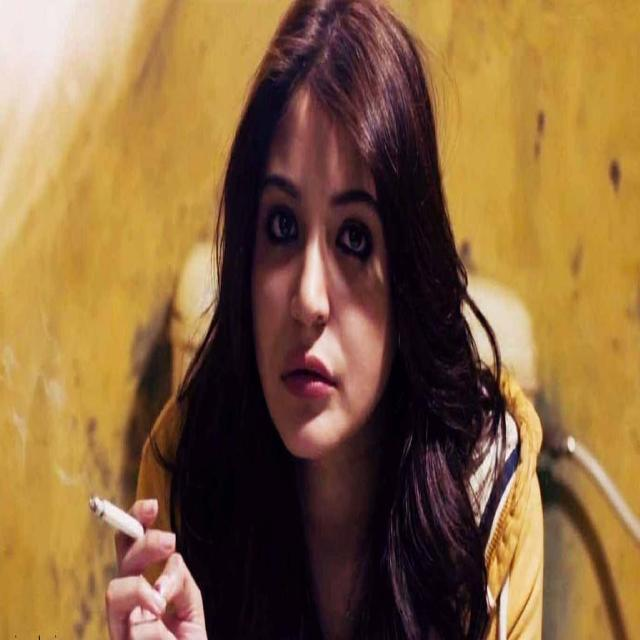smoking: (86, 0, 471, 640)
